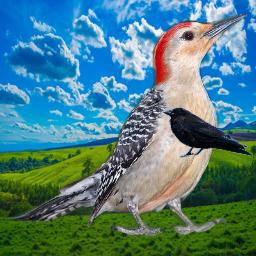Crow: (161, 107, 253, 158)
Woodpecker: (3, 9, 253, 238)
